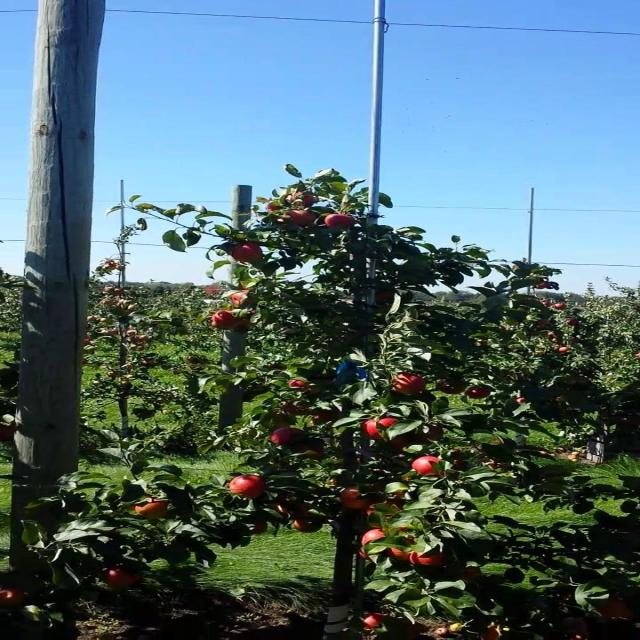apple: (367, 500, 402, 528), (271, 495, 311, 519), (229, 475, 267, 498), (102, 568, 142, 589), (362, 418, 398, 440), (229, 242, 264, 264), (598, 596, 633, 618), (393, 372, 427, 394), (133, 499, 169, 519), (291, 440, 327, 459), (340, 488, 371, 509), (269, 428, 307, 445), (411, 456, 442, 475), (284, 191, 318, 207), (284, 210, 318, 226), (211, 310, 238, 330), (409, 551, 444, 566), (322, 214, 356, 229), (436, 378, 467, 394), (287, 379, 318, 394), (229, 290, 256, 307), (416, 425, 444, 440), (360, 529, 384, 546), (280, 401, 311, 414), (291, 519, 322, 532), (362, 612, 384, 629), (271, 411, 293, 428), (480, 624, 502, 640), (464, 386, 491, 399), (313, 410, 340, 423), (387, 435, 411, 449), (376, 289, 396, 305), (480, 459, 511, 469), (460, 566, 482, 580), (0, 424, 18, 441), (387, 548, 409, 561), (251, 521, 269, 535), (451, 459, 469, 471), (302, 384, 320, 395), (264, 202, 280, 211), (393, 491, 407, 499), (358, 549, 369, 559)
